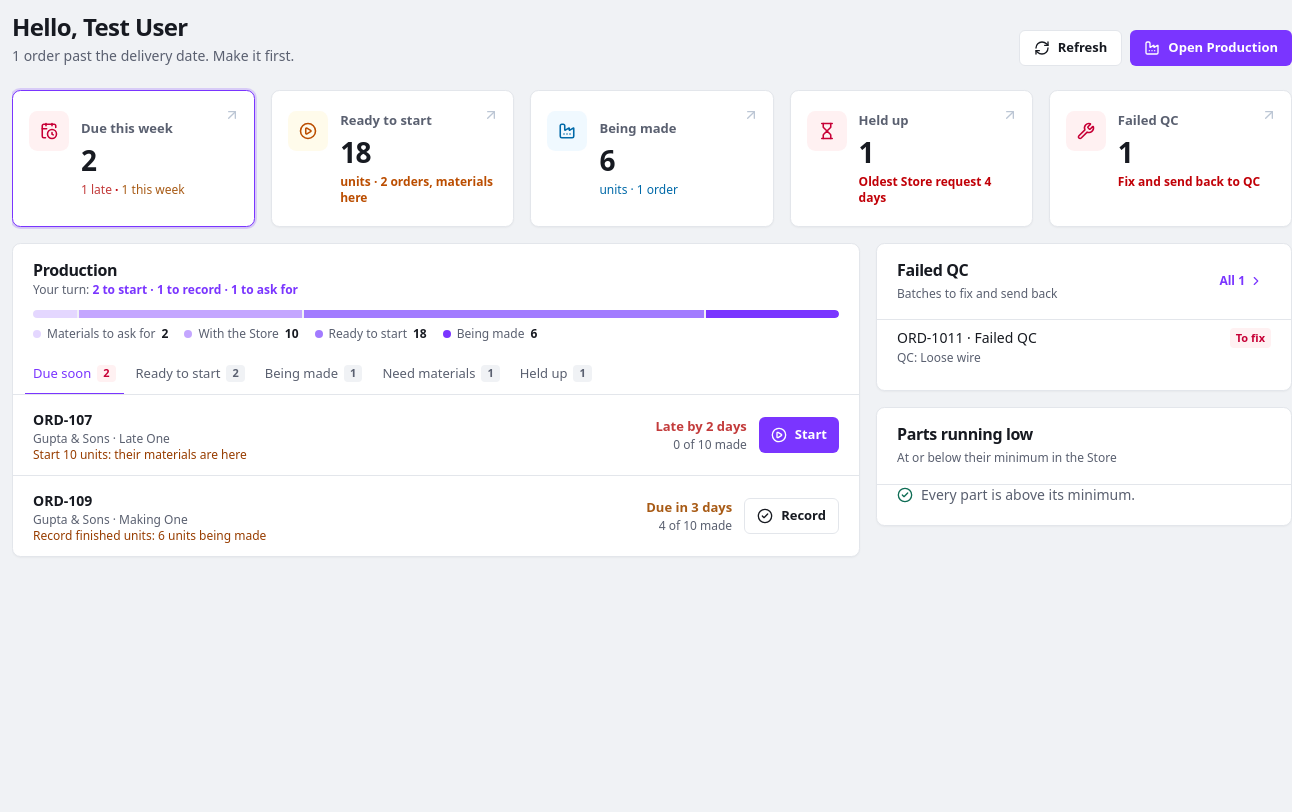
Test case: Production dashboard › a figure opens its list, and a row has the one button that moves it on
Expected: the text "Gupta & Sons · Late One" is shown, x1=33 y1=430 x2=170 y2=447
Expected: the button "Start" is shown, x1=759 y1=417 x2=839 y2=453
Click the button "Held up 1 Oldest Store request 4 days".
click(911, 158)  # box x1=790 y1=90 x2=1033 y2=226
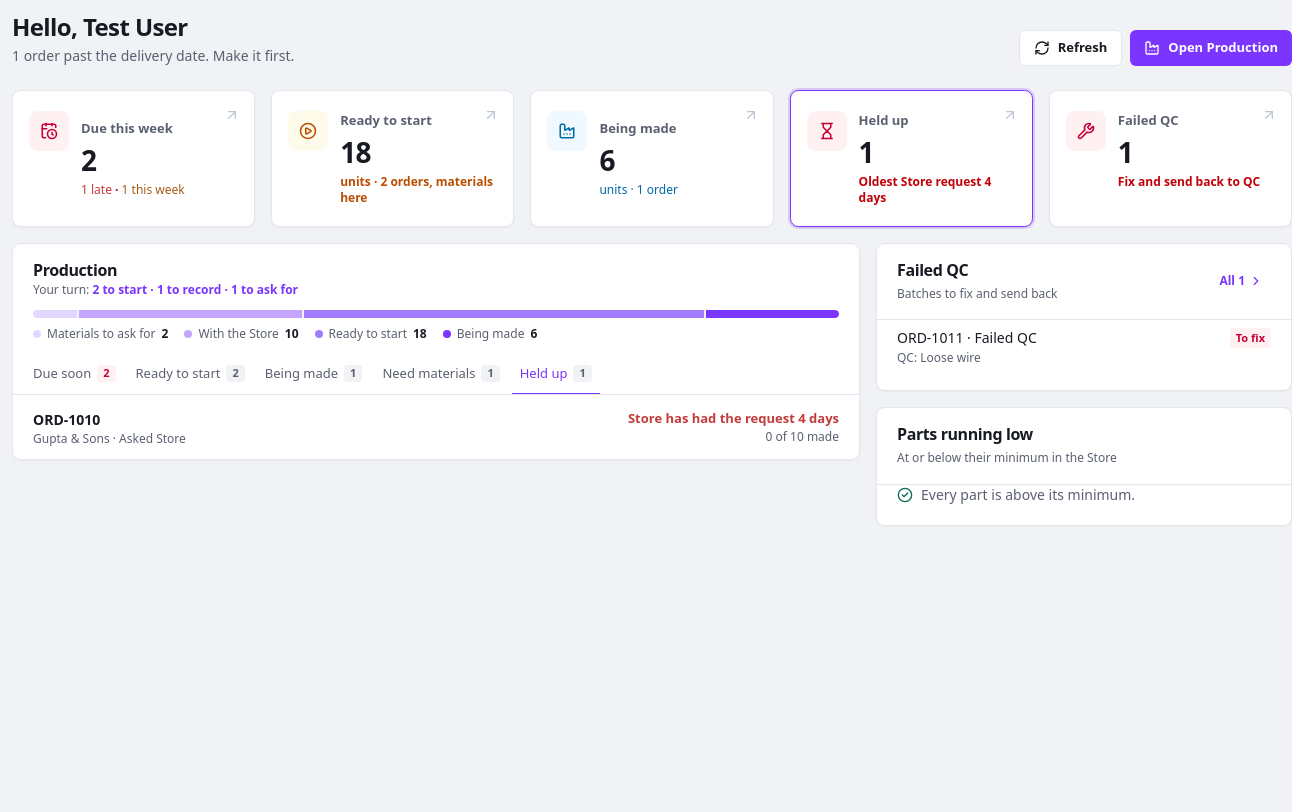
Now the text "Gupta & Sons · Asked Store" is shown, box x1=33 y1=430 x2=186 y2=447
